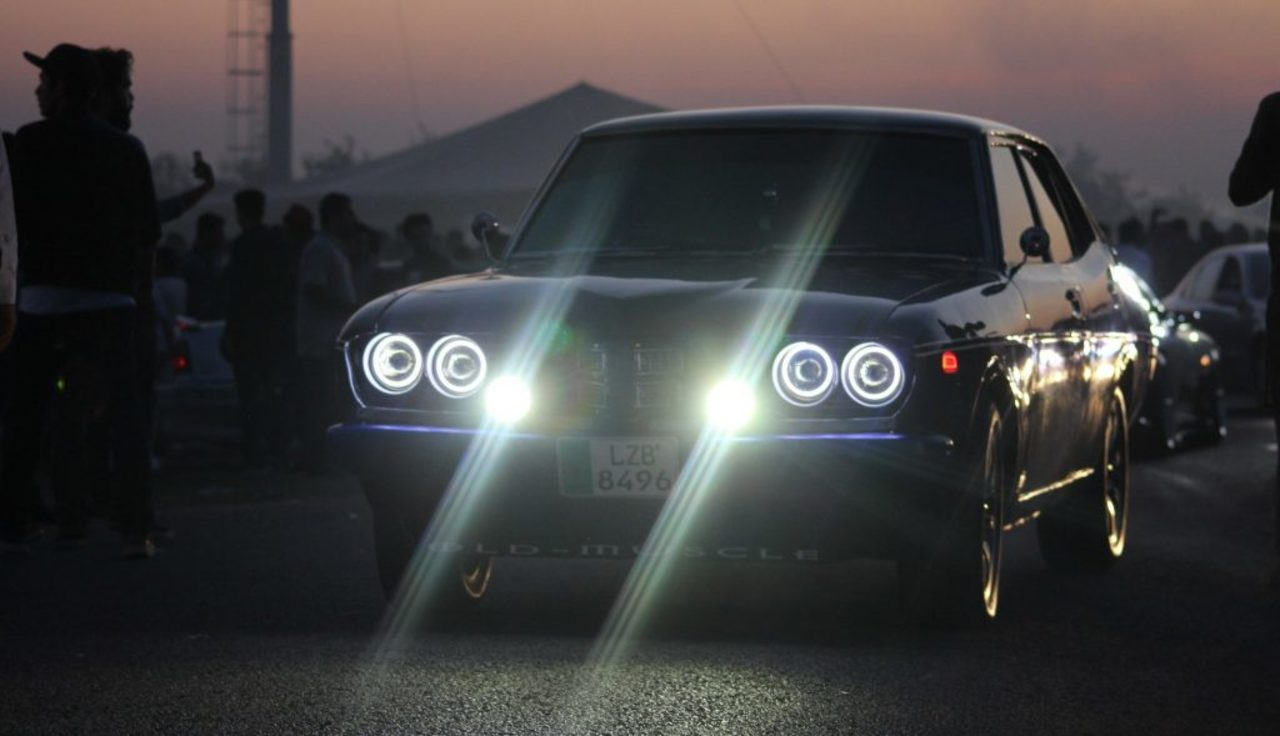car: (325, 110, 1134, 649), (1147, 246, 1270, 436), (1122, 257, 1223, 425)
person: (8, 39, 157, 565), (60, 43, 213, 547), (213, 186, 284, 497), (306, 193, 359, 459), (185, 210, 230, 327), (401, 205, 453, 293)
